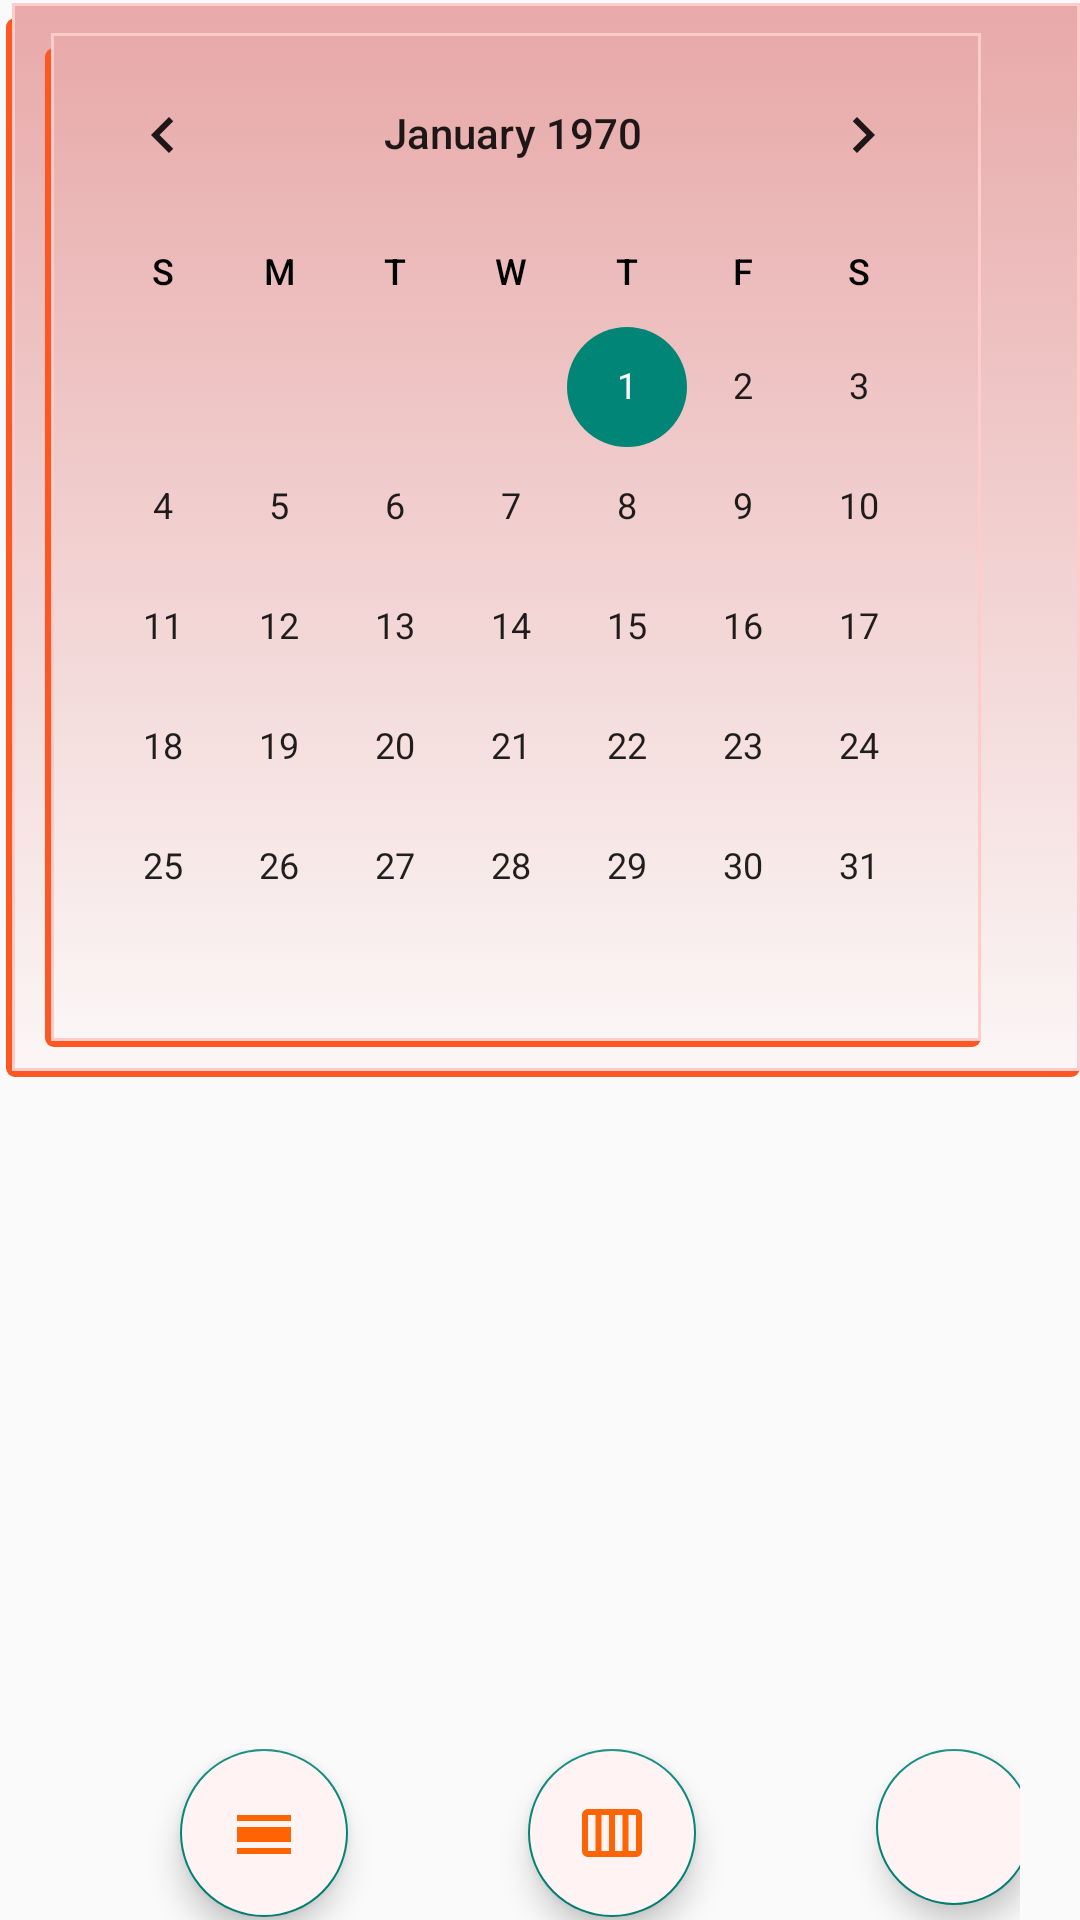

Locate icon controls on the screen. Image size 1080w x 1920h, boxes as (x1, y1, x2, y2).
daycalendar: (180, 1749, 348, 1917)
weekcalendar: (528, 1749, 696, 1917)
